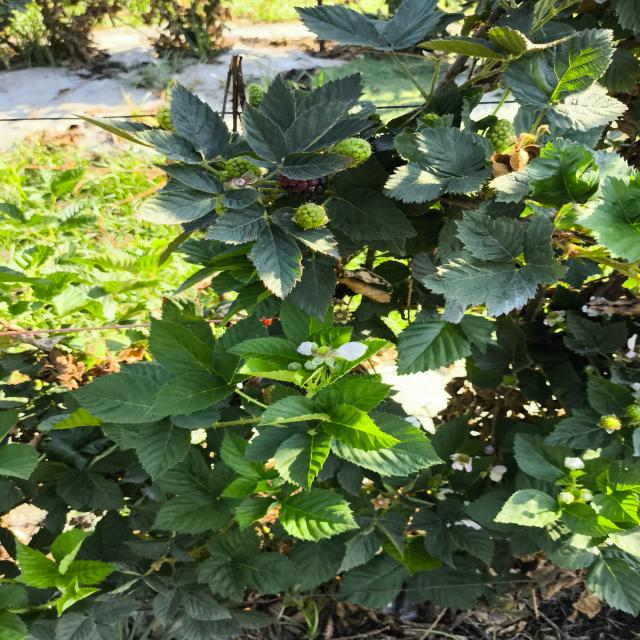boton: (564, 457, 584, 470), (558, 492, 575, 504), (287, 362, 302, 371), (305, 361, 319, 370)
flor: (297, 341, 366, 370)
verde: (486, 119, 515, 152), (294, 203, 327, 229), (335, 138, 371, 161), (226, 157, 259, 178), (156, 105, 175, 132), (248, 84, 264, 107)
